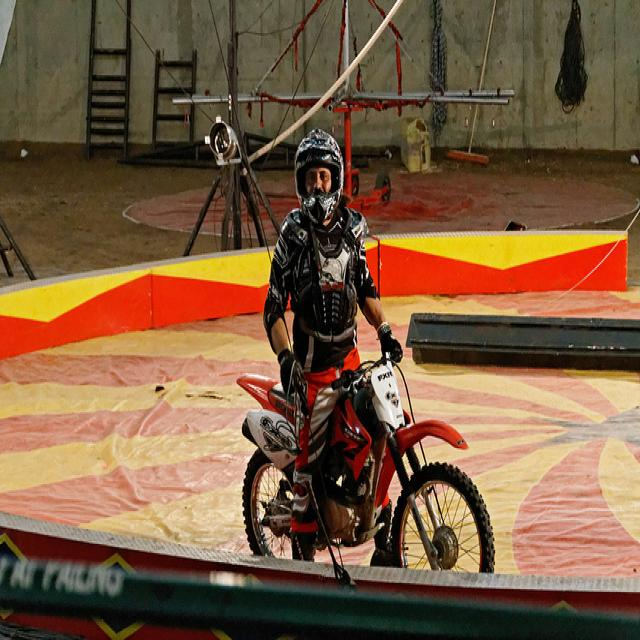motor: (236, 349, 497, 578)
